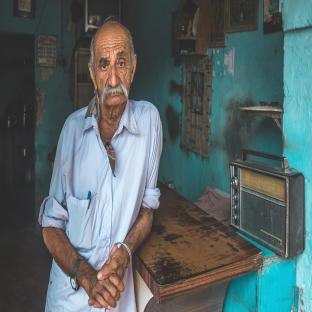Human: (39, 20, 163, 312)
